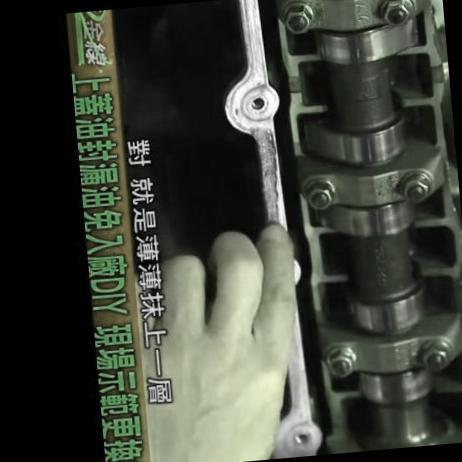hole: (249, 96, 266, 112)
